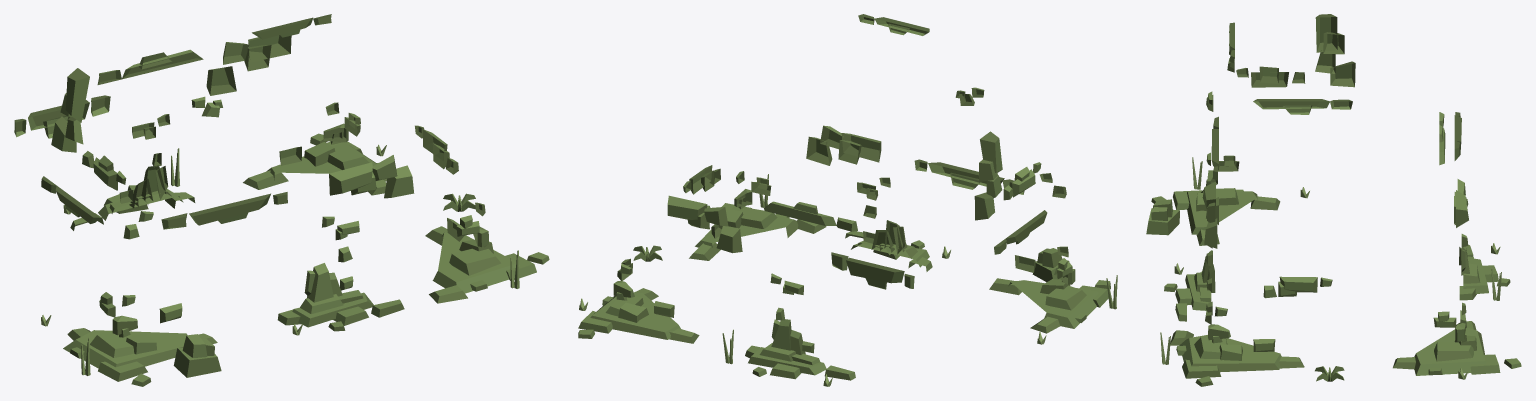
File: SA_Bld_HospitalBuilding_Growth_01.gltf
3 views of the same model, side by side, from view 1: azimuth 30°, elevation 25°; view 2: azimuth 150°, elevation 25°; view 3: azimuth 270°, elevation 25° (orthographic). The views are drawn at different scales.
Parts seen in each view (by area): view 1: SA_Bld_HospitalBuilding_Growth_01; view 2: SA_Bld_HospitalBuilding_Growth_01; view 3: SA_Bld_HospitalBuilding_Growth_01.
Boxes of the visible parts, bbox=[...] form: SA_Bld_HospitalBuilding_Growth_01: bbox=[14, 14, 549, 386]; SA_Bld_HospitalBuilding_Growth_01: bbox=[578, 14, 1117, 386]; SA_Bld_HospitalBuilding_Growth_01: bbox=[1146, 14, 1521, 386].
Size of the model in its own units: 33.69 by 19.52 by 26.75.
1 material, 1 textured.
